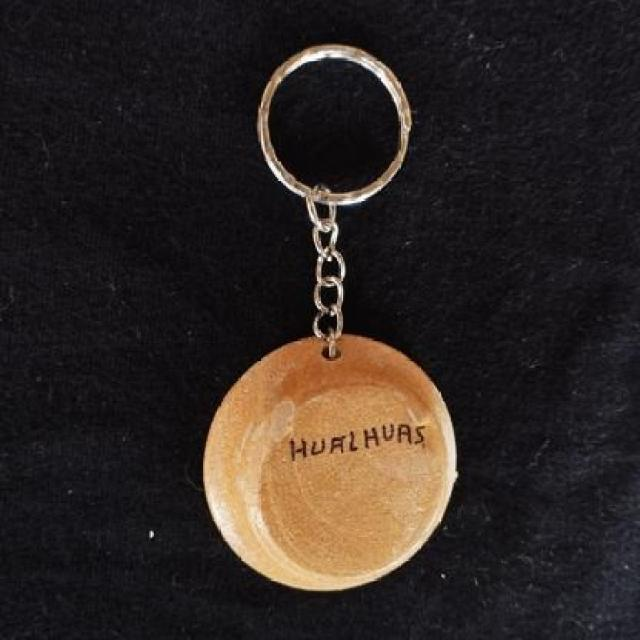Llavero: (201, 332, 459, 593)
